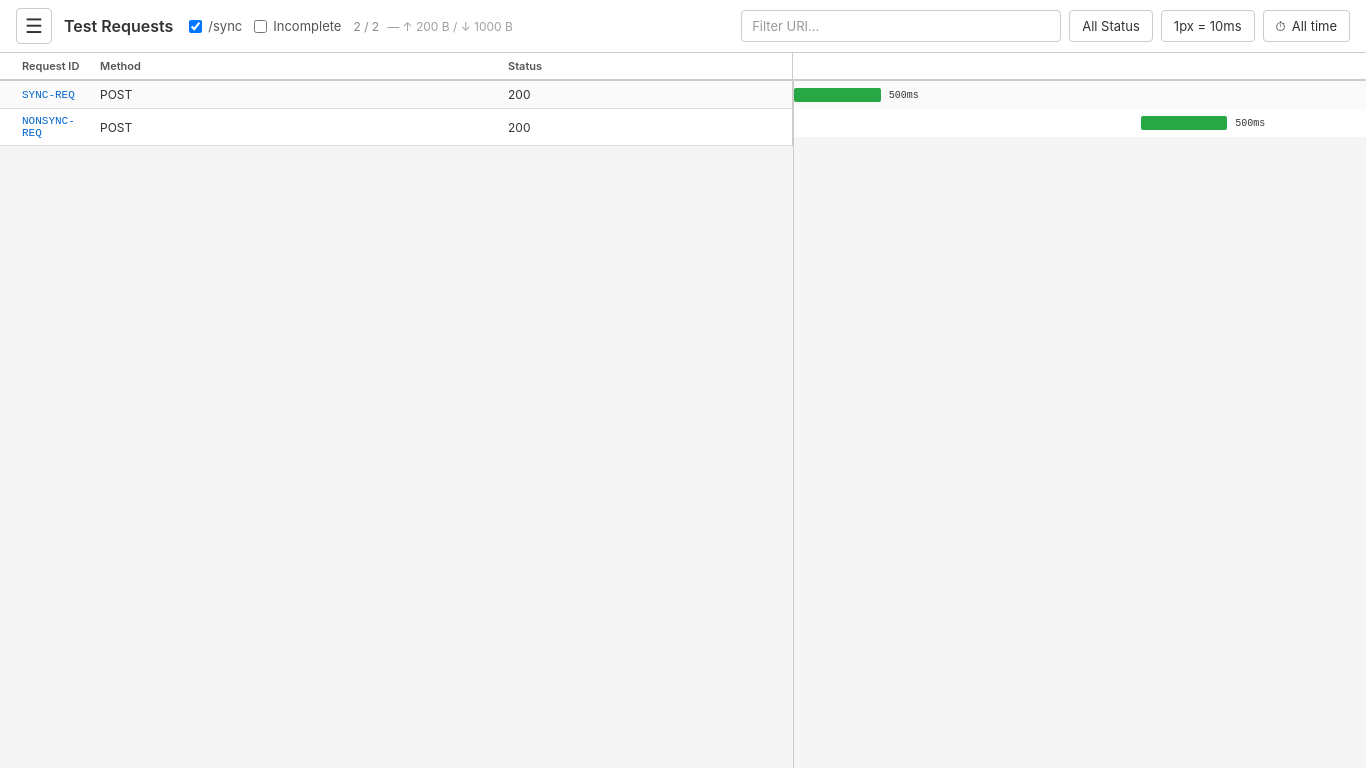
Scenario: RequestTable › interactions › hides /sync requests when /sync checkbox is unchecked
Expected: the text "SYNC-REQ" is shown, [16,86,86,102]
Expected: the text "NONSYNC-REQ" is shown, [16,113,86,141]
Click the checkbox labelled "/sync": (196, 26) [189,20,202,32]
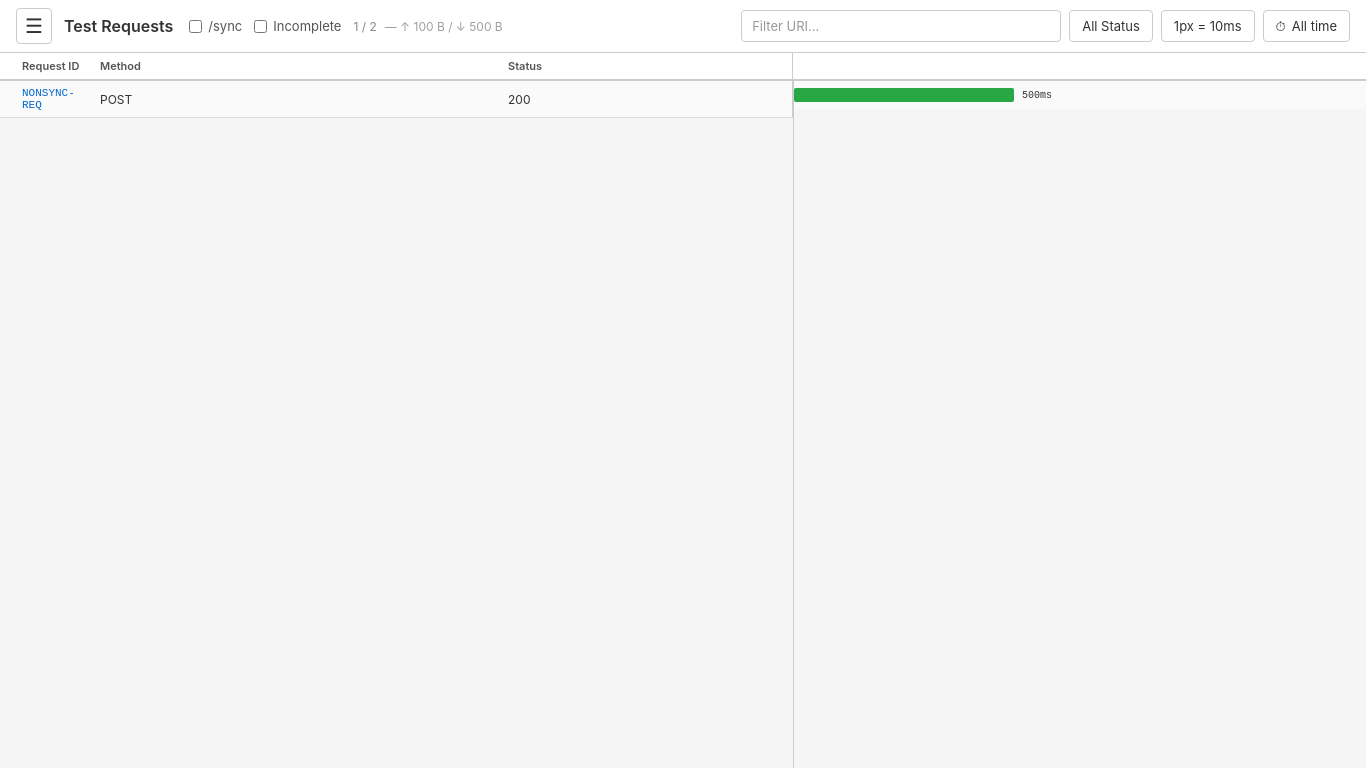
Expected: the text "NONSYNC-REQ" is shown, [16,85,86,113]
Expected: the text with id "shown-count" reads "1", [353,18,358,34]
